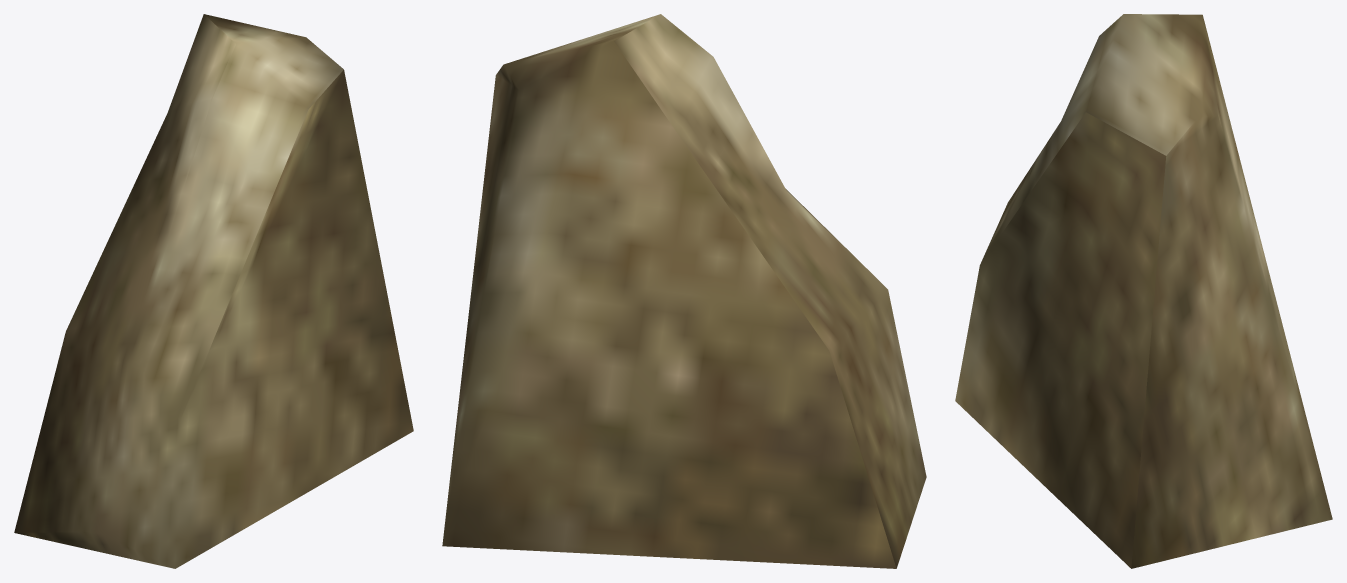
File: b_general_obj_15.fbx
3 views of the same model, side by side, from view 1: azimuth 30°, elevation 25°; view 2: azimuth 150°, elevation 25°; view 3: azimuth 270°, elevation 25° (orthographic). The views are drawn at different scales.
Parts seen in each view (by area): view 1: Object02; view 2: Object02; view 3: Object02.
Part boxes in pixels (x1,y1,x2,y2): Object02: [14, 14, 413, 568]; Object02: [442, 14, 926, 568]; Object02: [955, 14, 1332, 568].
Size of the model in its own units: 0.9616 by 1.02 by 0.744.
